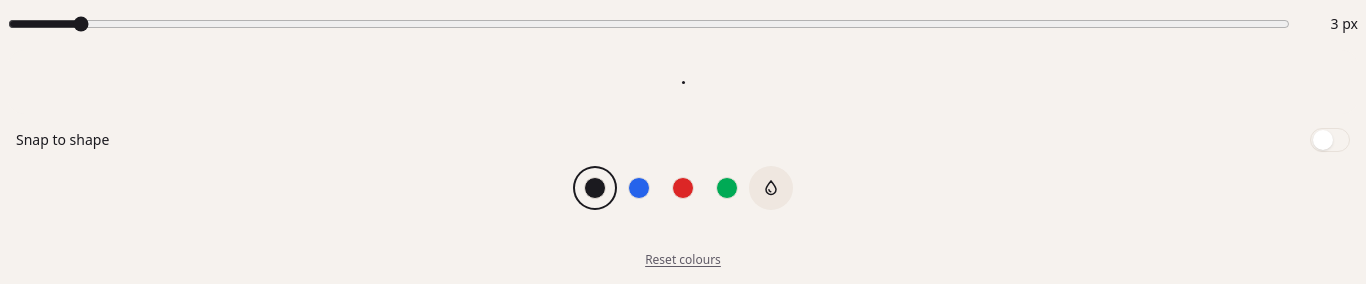
Test: ToolOptions › long press (500 ms) removes a non-default swatch with a live announcement; defaults are protected
This screenshot has width=1366, height=284.
Press the mouse on the button named "Colour #DC2626" at (683, 188), box [661, 166, 705, 210]
Press the mouse on the button named "Colour #00aa55" at (727, 188), box [705, 166, 749, 210]
Press the mouse on the button named "Colour #00aa55" at (727, 188), box [705, 166, 749, 210]
Wait 600 ms
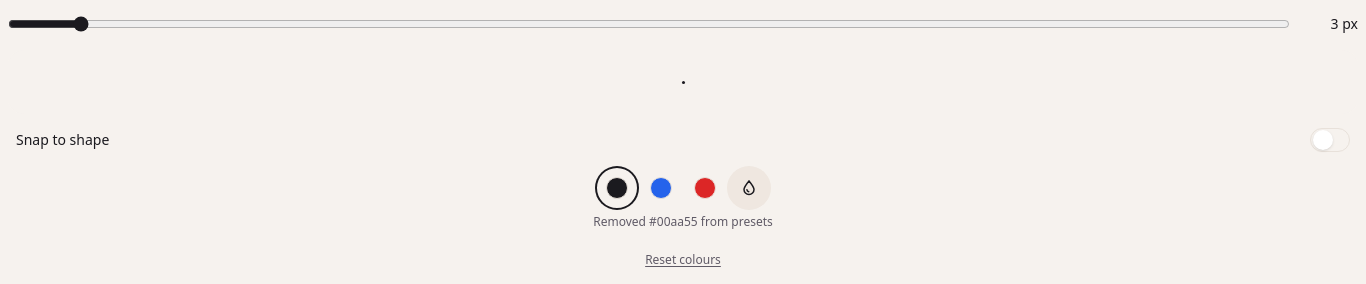
Result: the message with test id "preset-message" reads "Removed #00aa55 from presets" at [593, 213, 773, 230]
